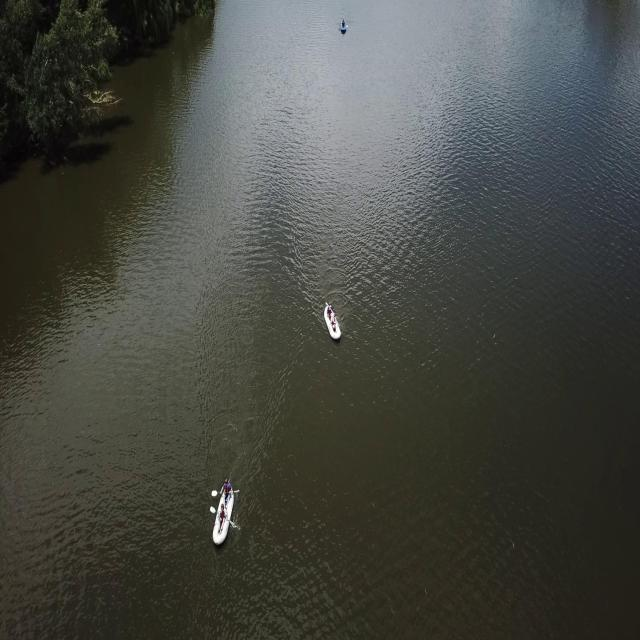kayak: (210, 487, 237, 552), (320, 301, 346, 343), (340, 18, 348, 37)
